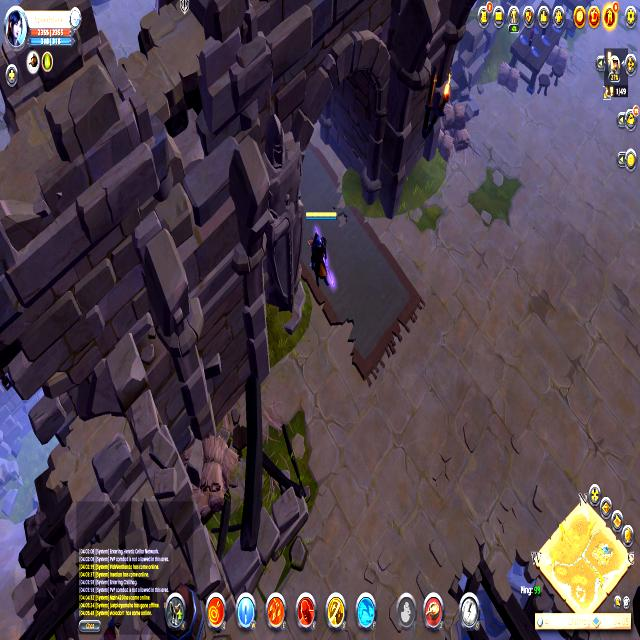red: (300, 203, 341, 292)
